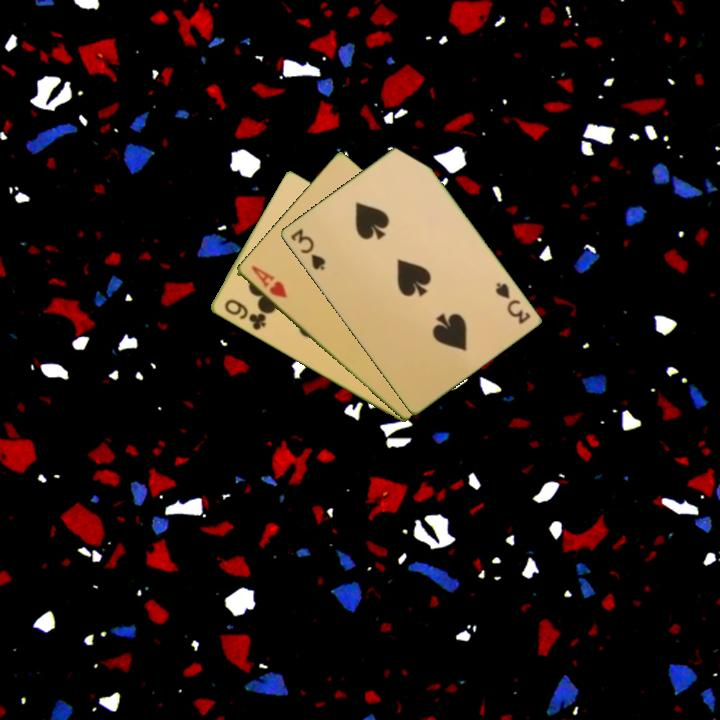3s: (286, 225, 328, 273), (491, 279, 533, 327)
9c: (221, 296, 269, 333)
Ah: (247, 262, 290, 301)
